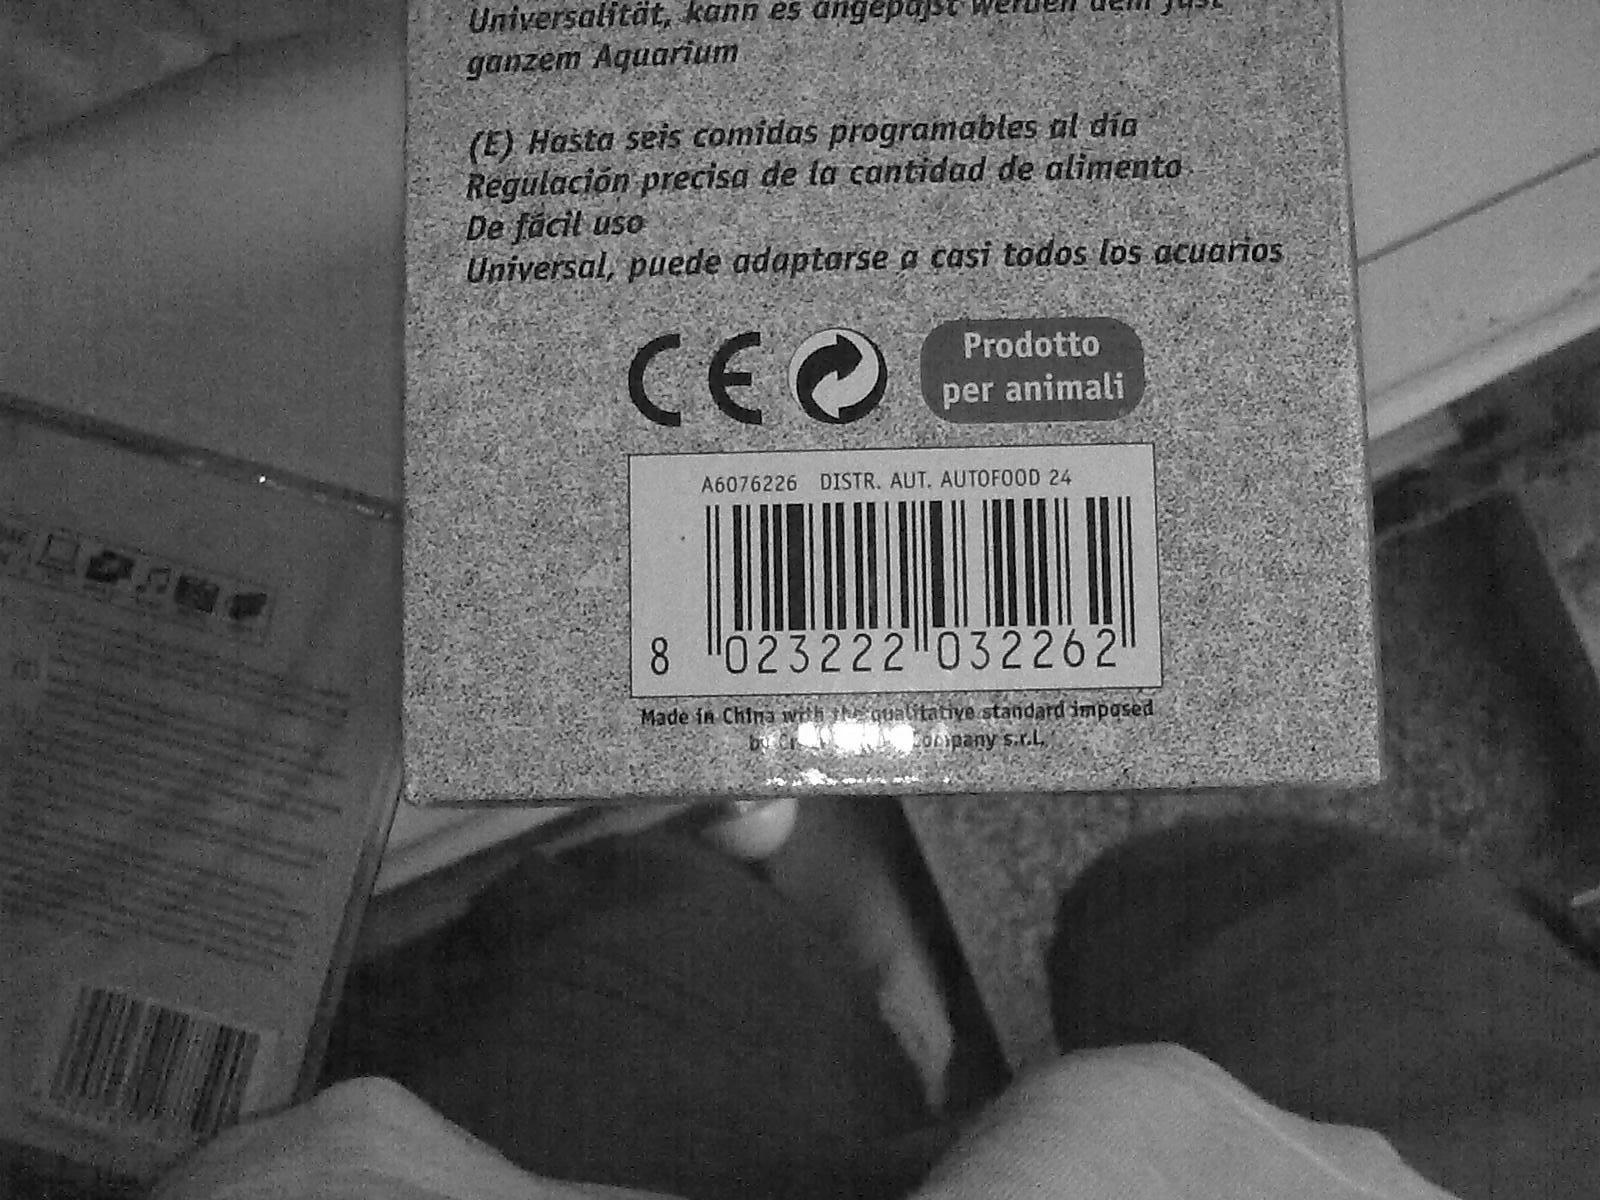Barcode: (643, 460, 1167, 680)
